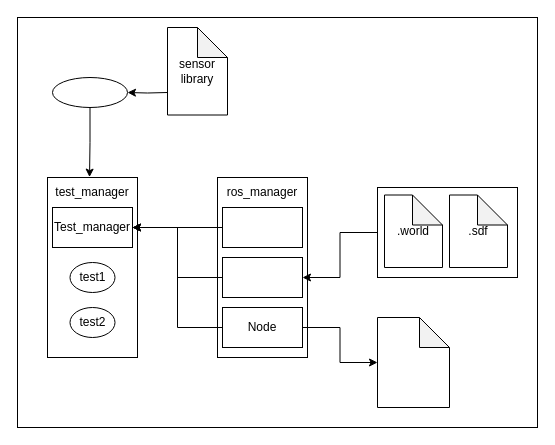
The diagram is 555 pixels wide and 445 high, and some of its shapes have lost their labels. Here are the shapes that lost their labels. From the top down, the centre of each, then its label:
point (90, 92): main
point (262, 227): Ros
point (262, 277): Gazebo
point (413, 362): captured data
